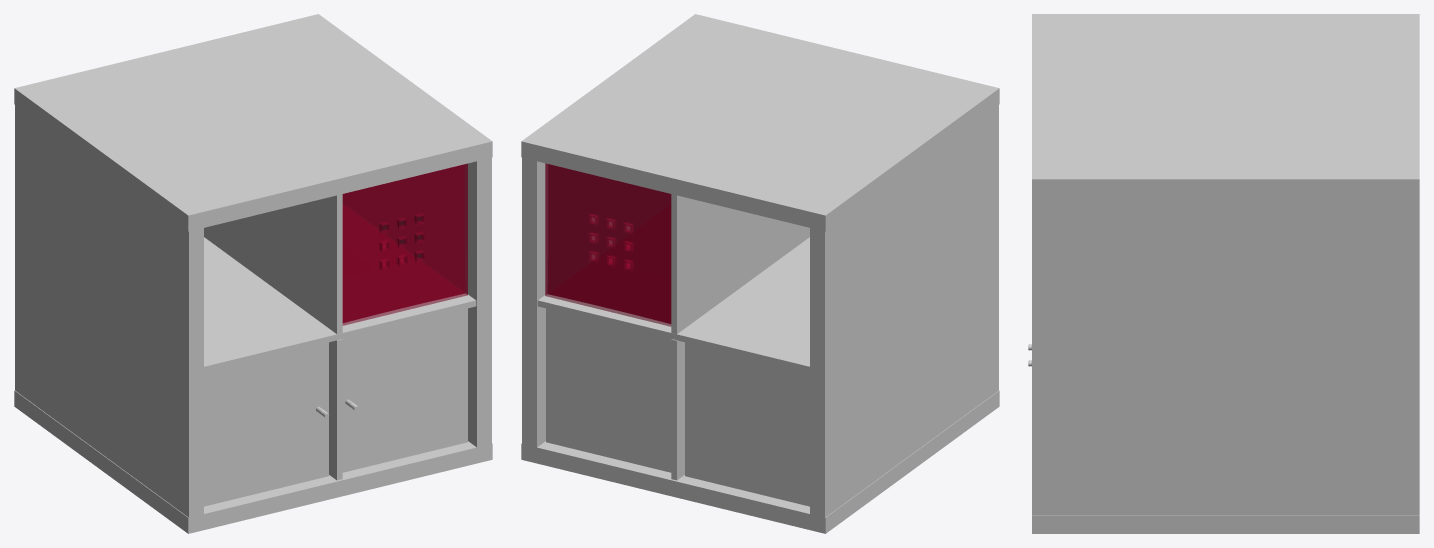
File: sh-bs0-shelves.glb
The picture shows the model from 3 angles, left to right: view 1: azimuth 30°, elevation 25°; view 2: azimuth 150°, elevation 25°; view 3: azimuth 270°, elevation 25°; orthographic projection. The views are drawn at different scales.
Visible parts, largest first — view 1: Cube.017_Cube.016, Cube.018; view 2: Cube.017_Cube.016, Cube.018; view 3: Cube.017_Cube.016.
Boxes of the visible parts, x1,y1,x2,y2 form: Cube.017_Cube.016: (14,14,492,533); Cube.018: (342,163,467,325); Cube.017_Cube.016: (521,14,999,533); Cube.018: (545,163,671,326); Cube.017_Cube.016: (1032,14,1419,533).
Bounding box in the file's own units: 1 × 1 × 1.
